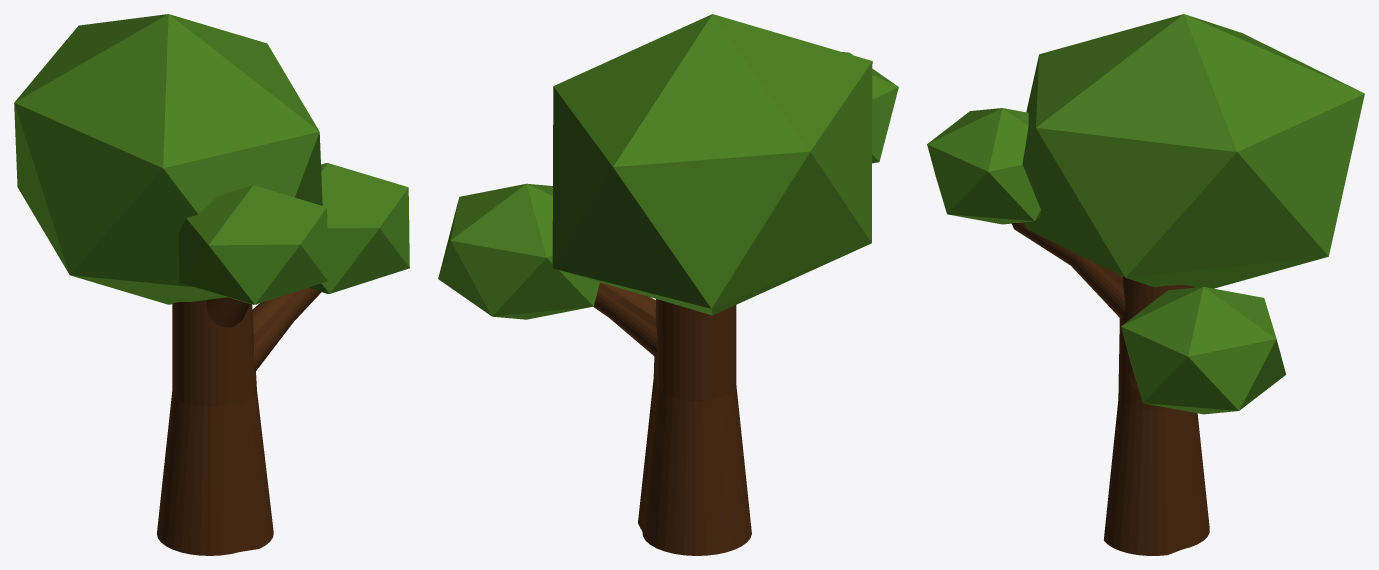
The model's file is tree.glb.
The picture shows the model from 3 angles, left to right: view 1: azimuth 30°, elevation 25°; view 2: azimuth 150°, elevation 25°; view 3: azimuth 270°, elevation 25°; orthographic projection. The views are drawn at different scales.
Parts seen in each view (by area): view 1: Icosphere.001, Cylinder, Icosphere.002, Icosphere, Cylinder.002, Cylinder.003; view 2: Icosphere.001, Cylinder, Icosphere, Cylinder.002, Icosphere.002; view 3: Icosphere.001, Icosphere, Cylinder, Icosphere.002, Cylinder.003.
Boxes of the visible parts, bbox=[...] form: Icosphere.001: bbox=[14, 14, 322, 304]; Cylinder: bbox=[157, 300, 273, 555]; Icosphere.002: bbox=[178, 185, 327, 304]; Icosphere: bbox=[309, 163, 409, 293]; Cylinder.002: bbox=[252, 287, 321, 371]; Cylinder.003: bbox=[206, 297, 249, 327]; Icosphere.001: bbox=[552, 14, 872, 315]; Cylinder: bbox=[638, 299, 751, 555]; Icosphere: bbox=[438, 183, 599, 319]; Cylinder.002: bbox=[593, 282, 656, 356]; Icosphere.002: bbox=[842, 52, 898, 163]; Icosphere.001: bbox=[1022, 14, 1364, 288]; Icosphere: bbox=[1121, 286, 1285, 414]; Cylinder: bbox=[1104, 276, 1209, 555]; Icosphere.002: bbox=[927, 108, 1040, 224]; Cylinder.003: bbox=[1011, 222, 1125, 317].
Size of the model in its own units: 4.58 by 6.14 by 4.84.
